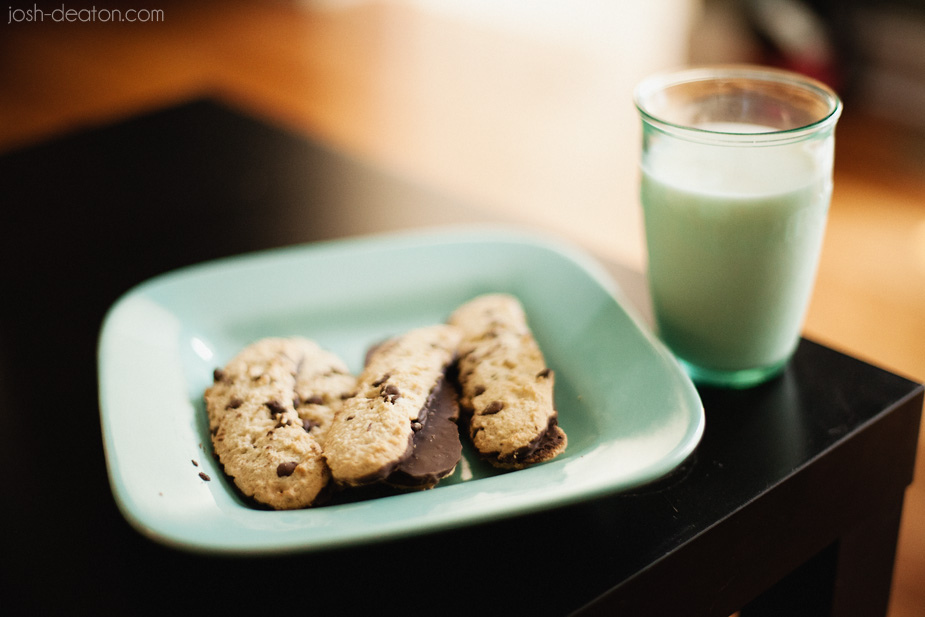glass of milk: (631, 82, 829, 395)
